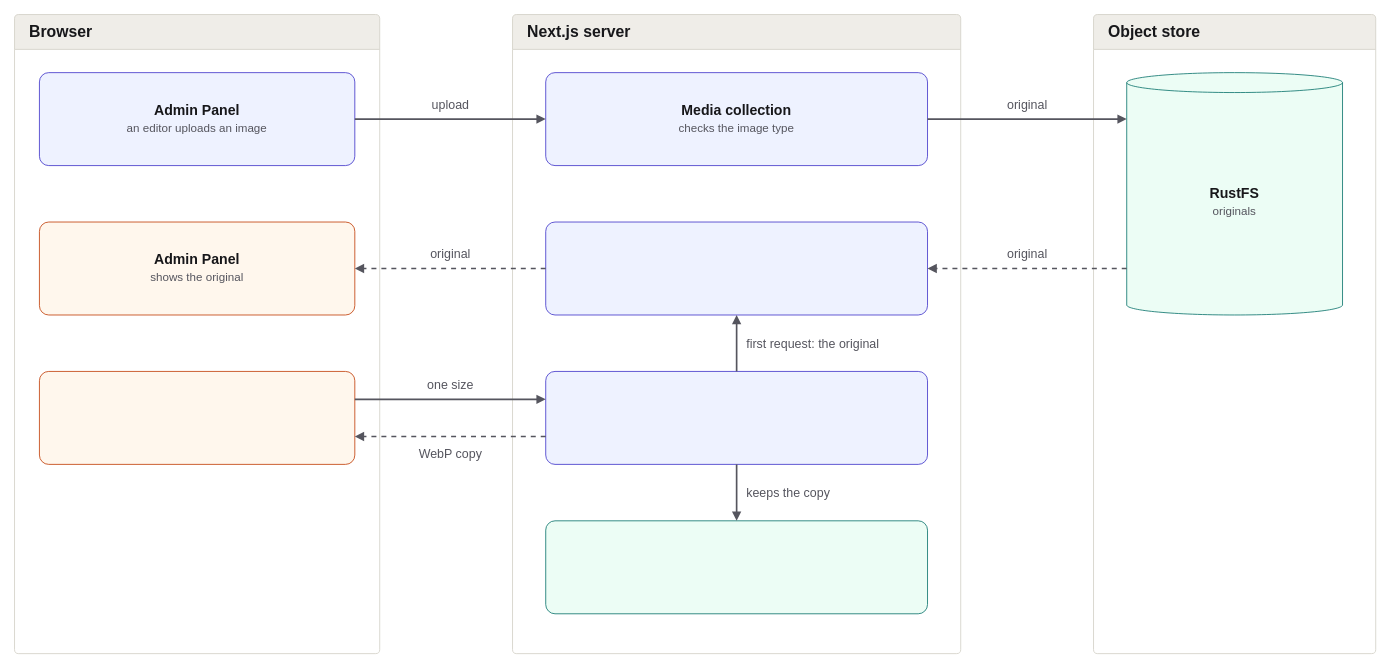
Image size: 1390x668. Some labels were removed from this diagram. The shapes that lost their labels are listed below. From the top down, each one's centre as x and y in pixels, then its label:
At point (736, 268): "/api/media/file/<name> serves the original".
At point (197, 417): "Site page next/image : several sizes".
At point (736, 417): "Image optimizer /_next/image".
At point (736, 567): "Cache resized copies on the disk of the server".
